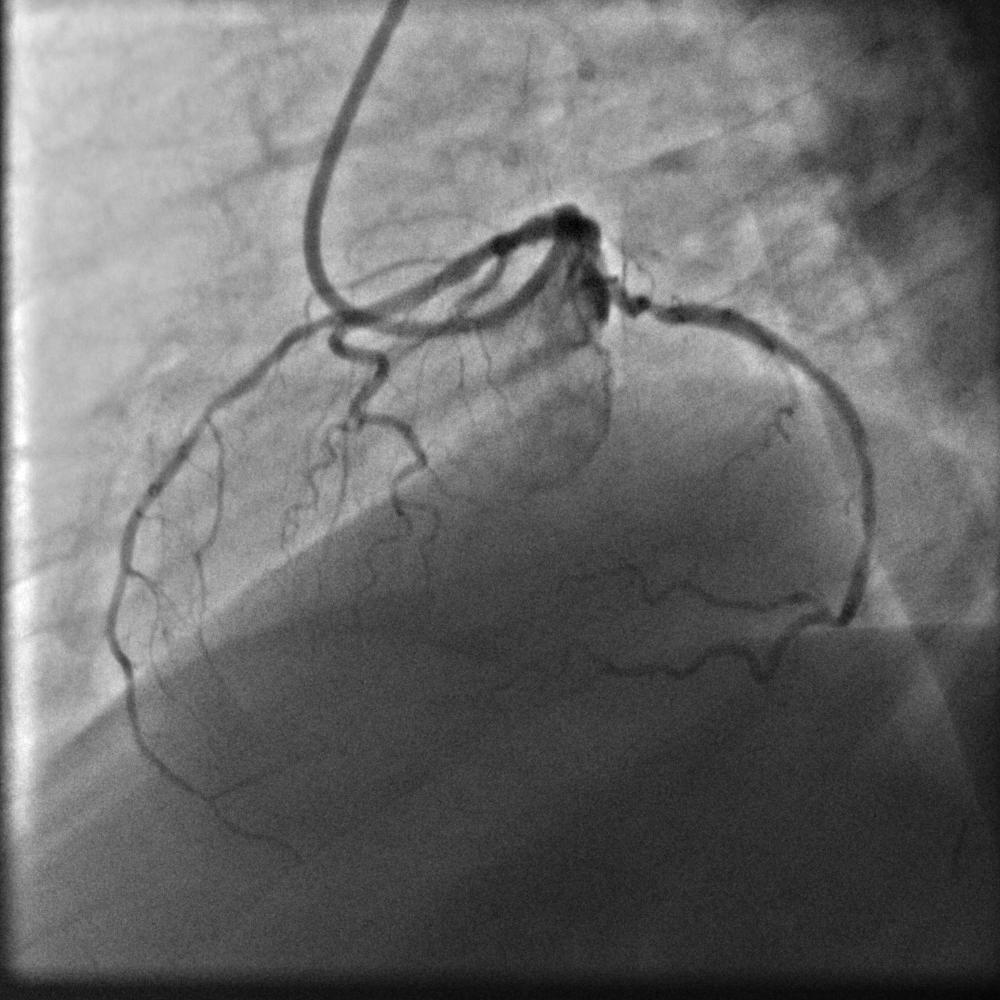Stenosis: (645, 294, 663, 320)
